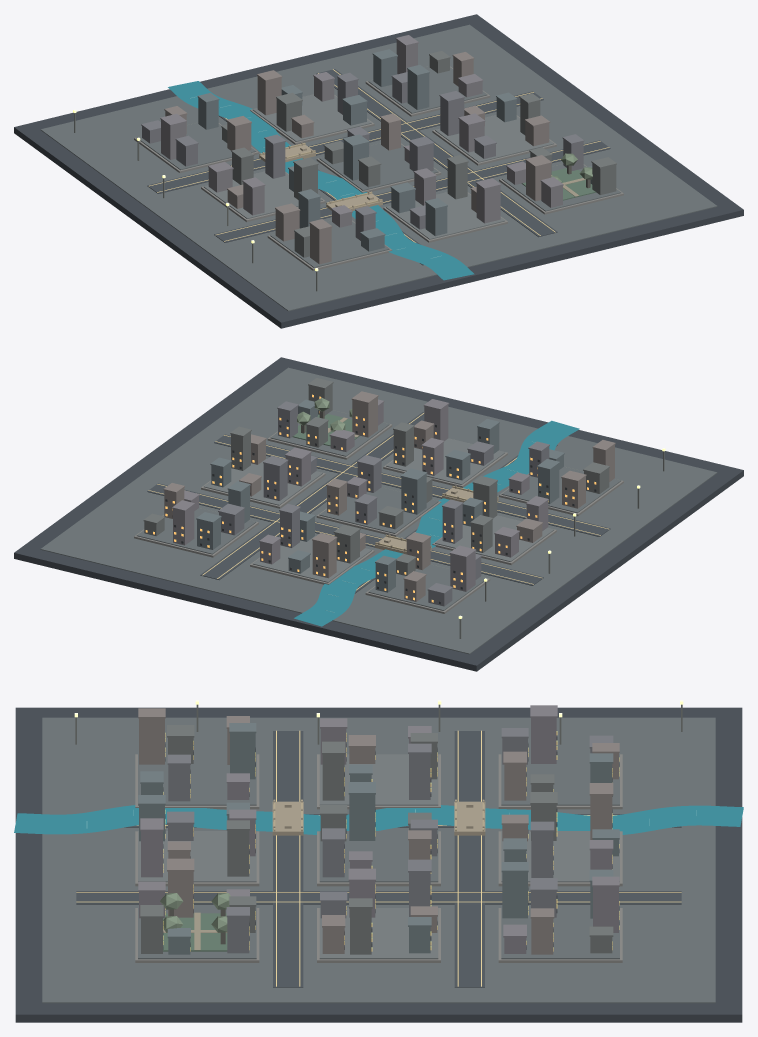
Rendered from gotham_ward_environment.glb.
The picture shows the model from 3 angles, top to bottom: view 1: azimuth 30°, elevation 25°; view 2: azimuth 150°, elevation 25°; view 3: azimuth 270°, elevation 25°; orthographic projection. The views are drawn at different scales.
Visible parts, largest first — view 1: terrain, foundation, neighborhood_slate_4, neighborhood_slate_2, neighborhood_slate_3, neighborhood_slate_5, neighborhood_slate_1, block_alt, street, Gotham River | S-curve waterway, block, lane (+2 smaller); view 2: terrain, foundation, neighborhood_slate_2, neighborhood_slate_4, neighborhood_slate_3, neighborhood_slate_5, street, neighborhood_slate_1, Gotham River | S-curve waterway, block_alt, block, lane (+3 smaller); view 3: terrain, foundation, street, block_alt, neighborhood_slate_2, neighborhood_slate_1, neighborhood_slate_4, neighborhood_slate_3, neighborhood_slate_5, Gotham River | S-curve waterway, block, lane (+3 smaller).
Boxes of the visible parts, x1,y1,x2,y2 form: terrain: (40, 24, 717, 311); foundation: (14, 14, 743, 328); neighborhood_slate_4: (160, 35, 563, 227); neighborhood_slate_2: (164, 52, 551, 264); neighborhood_slate_3: (197, 49, 592, 251); neighborhood_slate_5: (221, 51, 616, 257); neighborhood_slate_1: (141, 72, 584, 240); block_alt: (203, 94, 554, 239); street: (147, 69, 610, 265); Gotham River | S-curve waterway: (168, 81, 474, 280); block: (134, 66, 623, 270); lane: (148, 69, 609, 242); terrain: (40, 367, 717, 654); foundation: (14, 357, 743, 671); neighborhood_slate_2: (163, 391, 615, 601); neighborhood_slate_4: (172, 399, 548, 591); neighborhood_slate_3: (196, 399, 564, 592); neighborhood_slate_5: (143, 378, 609, 575); street: (147, 412, 610, 593); neighborhood_slate_1: (218, 401, 549, 606); Gotham River | S-curve waterway: (294, 420, 579, 626); block_alt: (203, 438, 554, 582); block: (134, 423, 623, 613); lane: (148, 413, 609, 590); terrain: (42, 717, 715, 1003); foundation: (15, 707, 742, 1022); street: (76, 731, 681, 987); block_alt: (138, 754, 619, 959); neighborhood_slate_2: (138, 708, 619, 954); neighborhood_slate_1: (167, 728, 613, 953); neighborhood_slate_4: (138, 705, 619, 953); neighborhood_slate_3: (138, 723, 619, 954); neighborhood_slate_5: (140, 725, 613, 954); Gotham River | S-curve waterway: (14, 805, 743, 834); block: (135, 754, 622, 962); lane: (76, 730, 681, 986).
Bounding box in the file's own units: 48 × 4.59 × 48.24.
